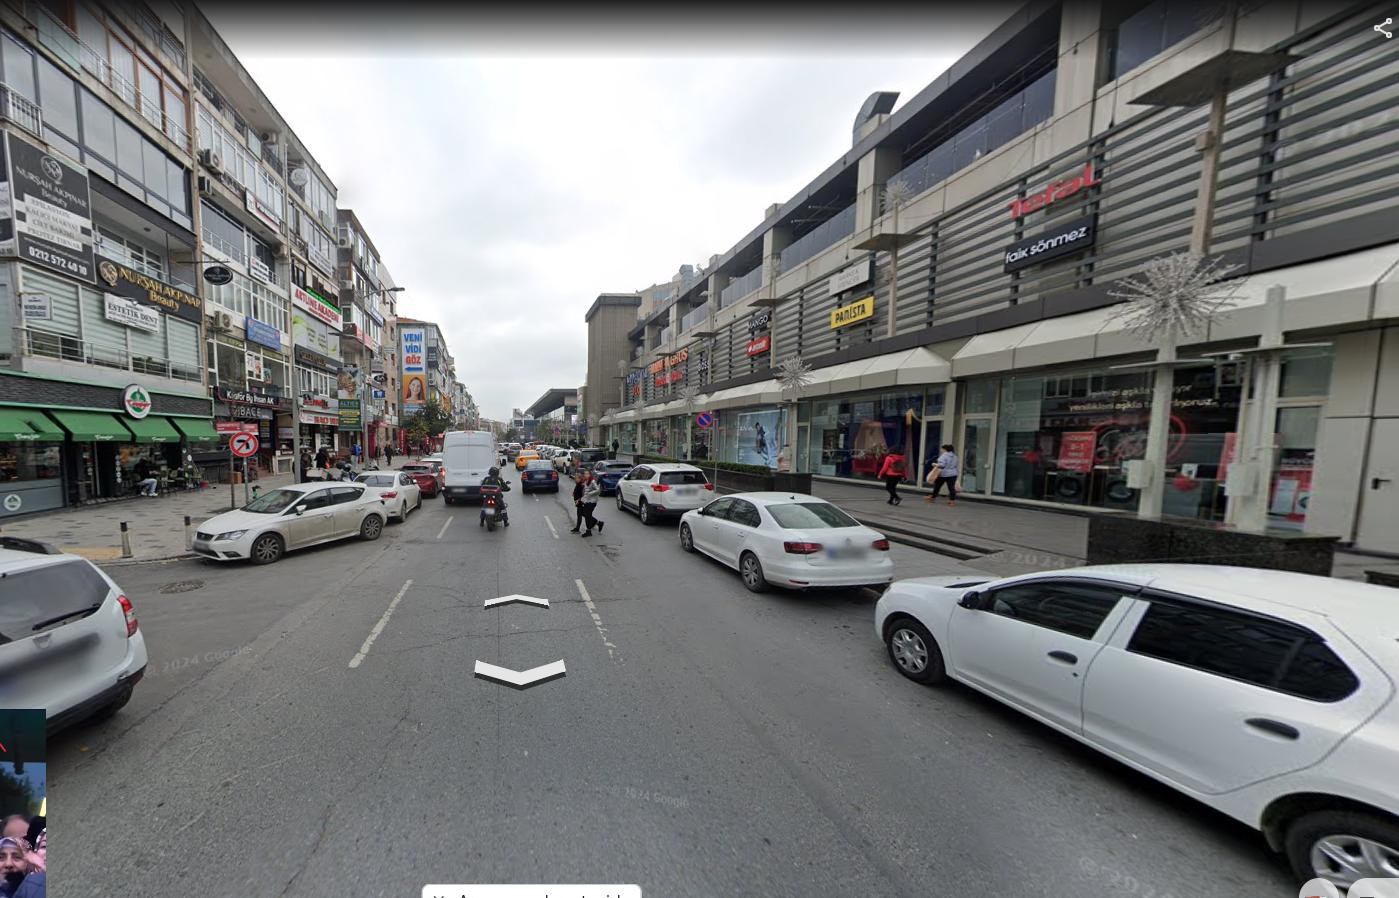leftturnsareforbidden: (231, 432, 257, 456)
nopark: (696, 412, 713, 427)
